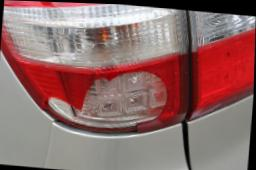Light: (25, 37, 181, 137)
